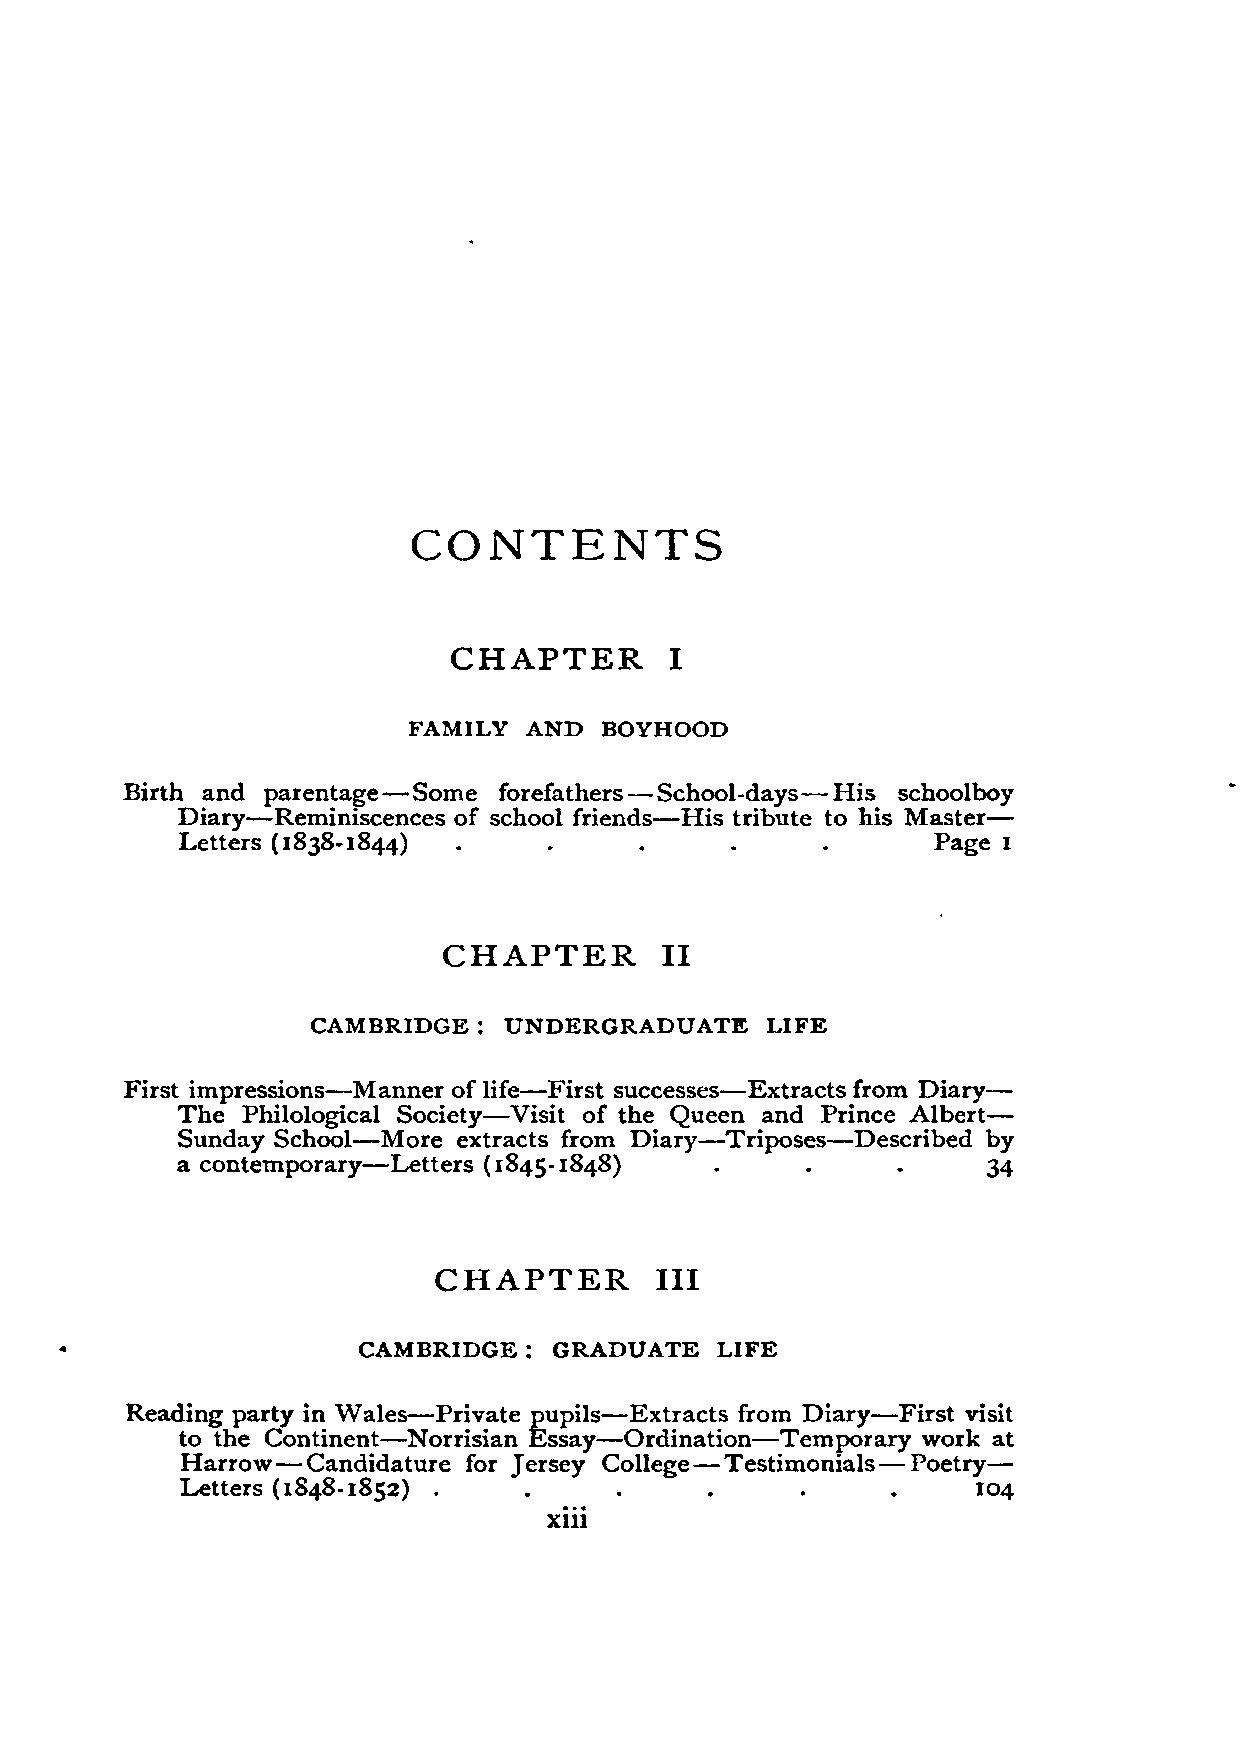TOC_chapter: (122, 1072, 1016, 1180), (125, 1397, 1019, 1500), (117, 773, 1017, 859), (299, 938, 837, 1036), (356, 1261, 778, 1362), (407, 639, 731, 738)
TOC_pagenumber: (931, 831, 1015, 858), (968, 1475, 1016, 1500), (985, 1158, 1013, 1178)
chapter: (408, 523, 725, 560)
